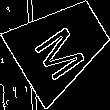M_NE: (29, 13, 92, 79)
